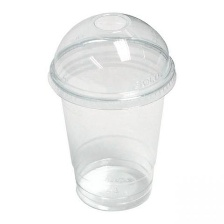glass: (40, 8, 184, 218)
